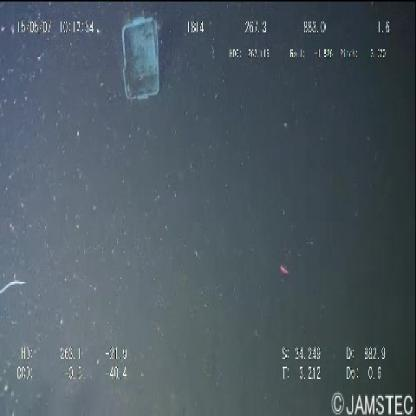Rác: (118, 12, 163, 112)
